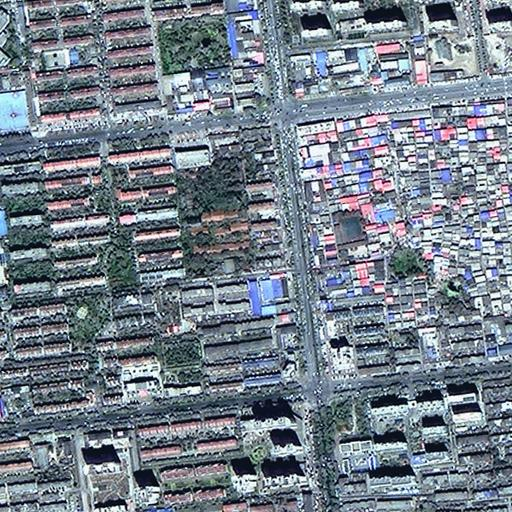school: (334, 209, 367, 253)
